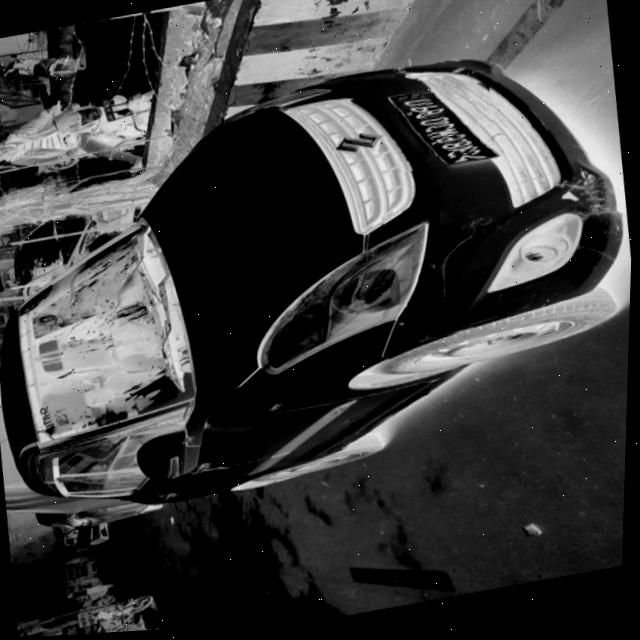0: (417, 119, 453, 131)
3: (446, 149, 487, 162)
4: (453, 156, 489, 168)
8: (440, 143, 477, 156), (413, 112, 448, 125)
9: (434, 137, 470, 151)
C: (422, 125, 459, 138)
IND: (396, 96, 422, 106)
Indian_registered: (389, 96, 496, 169)
M: (424, 131, 465, 146)
P: (408, 106, 442, 119)
U: (402, 100, 437, 113)
